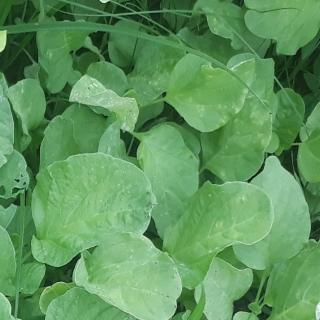karat_putih: (191, 54, 275, 178), (65, 70, 140, 138)
kekurangan_mangan: (0, 0, 13, 72)
virus_keriting: (30, 147, 159, 267)
